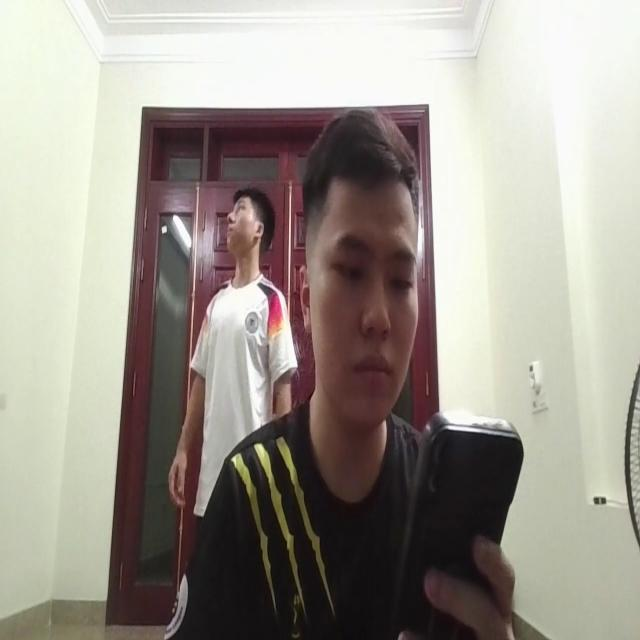extra_person: (178, 158, 294, 561)
phone: (403, 388, 524, 640)
student: (206, 101, 518, 640)
